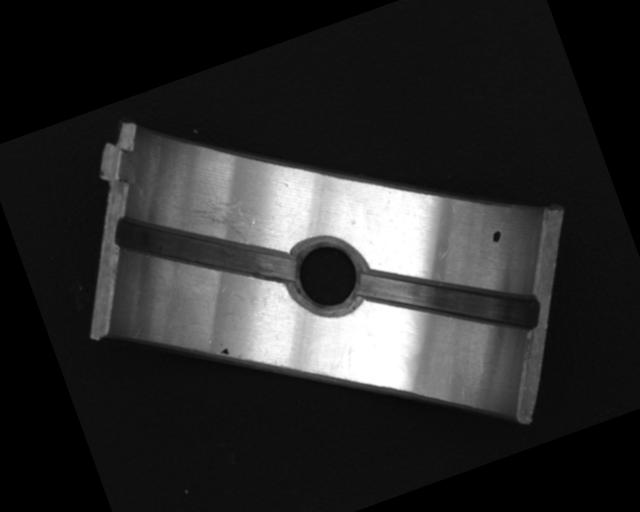blot: (489, 228, 505, 245), (218, 346, 231, 358)
gap: (109, 169, 299, 334), (357, 223, 540, 377)
hole: (281, 228, 375, 326)
scratch: (168, 179, 261, 267)
